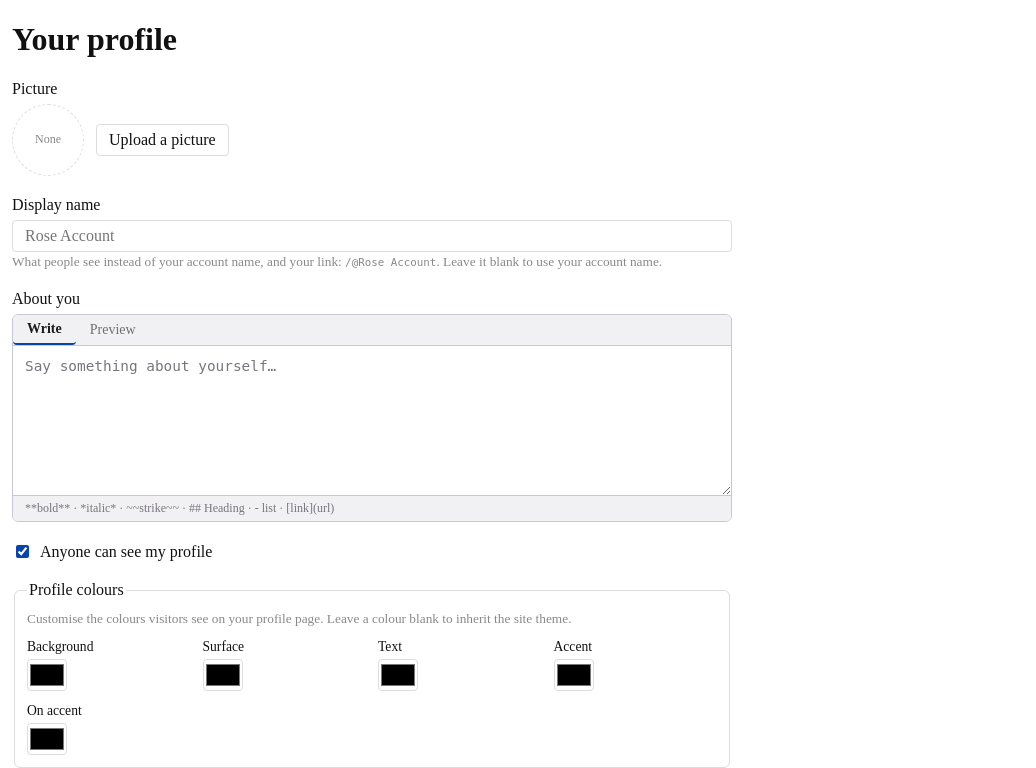
Test: ProfileEdit › shows the reason the server refused rather than a generic failure
Type "Rose" into the field with placeholder "Rose Account" at (372, 236), box [12, 220, 732, 252]
(page scrolled)
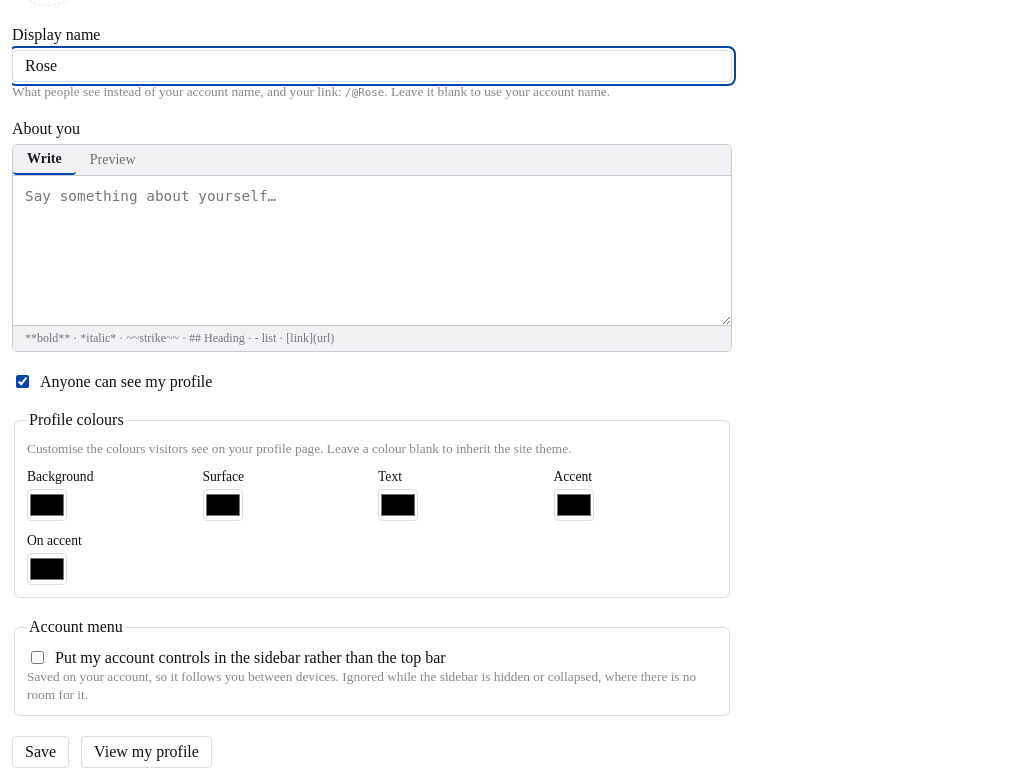
Click the button "Save" at (41, 752), box [12, 736, 69, 767]
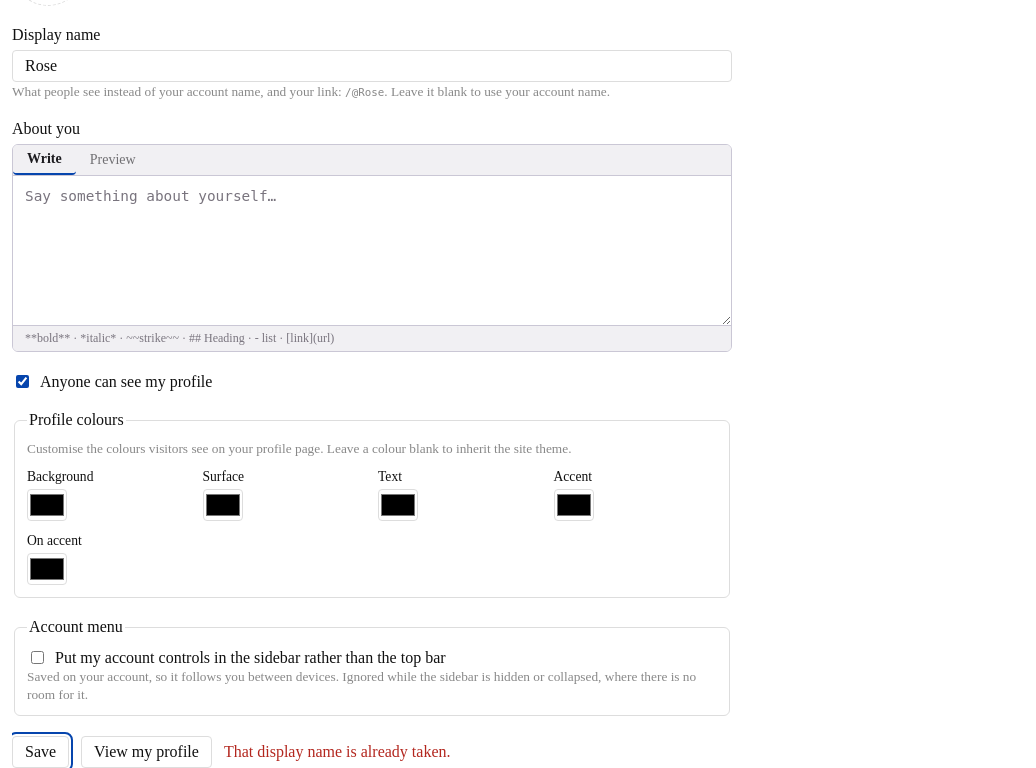
Expected: the text "That display name is already taken." is shown, [224, 743, 450, 761]
